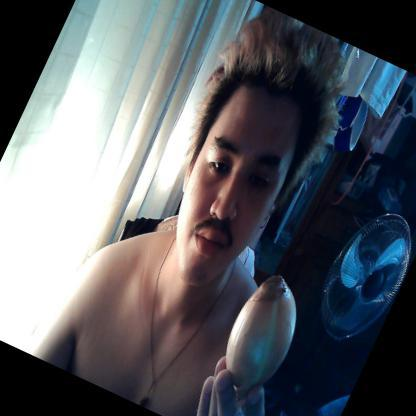onion: (206, 264, 316, 406)
